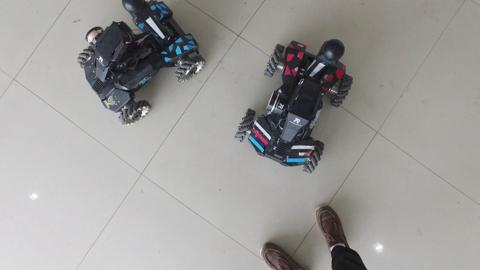chariot: (228, 25, 360, 186), (65, 1, 216, 135)
